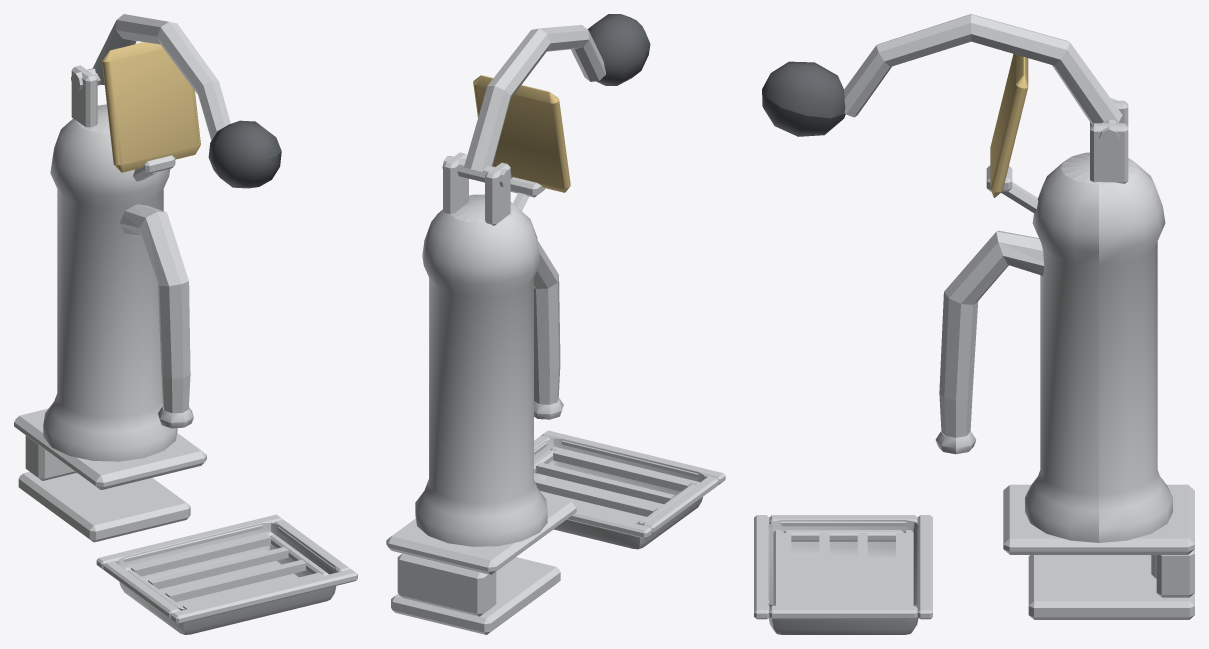
File: bar-pub-and-brewery-taproom-hand-pull-single-67ac7399__18349.glb
3 views of the same model, side by side, from view 1: azimuth 30°, elevation 25°; view 2: azimuth 150°, elevation 25°; view 3: azimuth 270°, elevation 25° (orthographic). The views are drawn at different scales.
Visible parts, largest first — view 1: hand-pull-single; view 2: hand-pull-single; view 3: hand-pull-single.
Boxes of the visible parts, bbox=[...] form: hand-pull-single: bbox=[14, 14, 357, 634]; hand-pull-single: bbox=[386, 14, 725, 634]; hand-pull-single: bbox=[754, 14, 1194, 634].
Bounding box in the file's own units: 0.18 × 0.5015 × 0.345.
